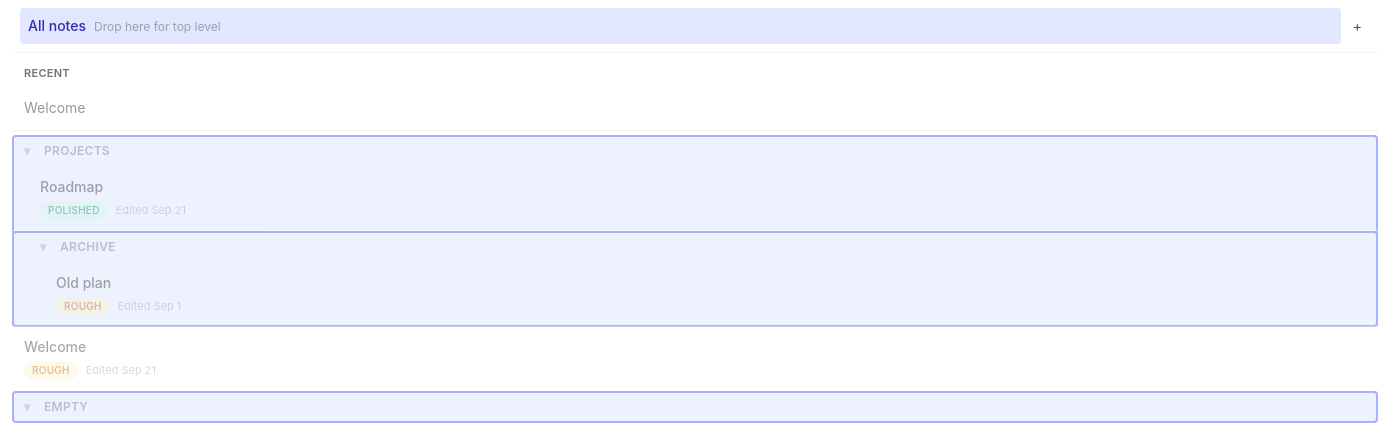
DocumentSidebar › closes a context menu on an outside click
The width and height of the screenshot is (1390, 440).
Right-click the button "▾ Empty" at (66, 406), box top-left (12, 390), bottom-right (1378, 422)
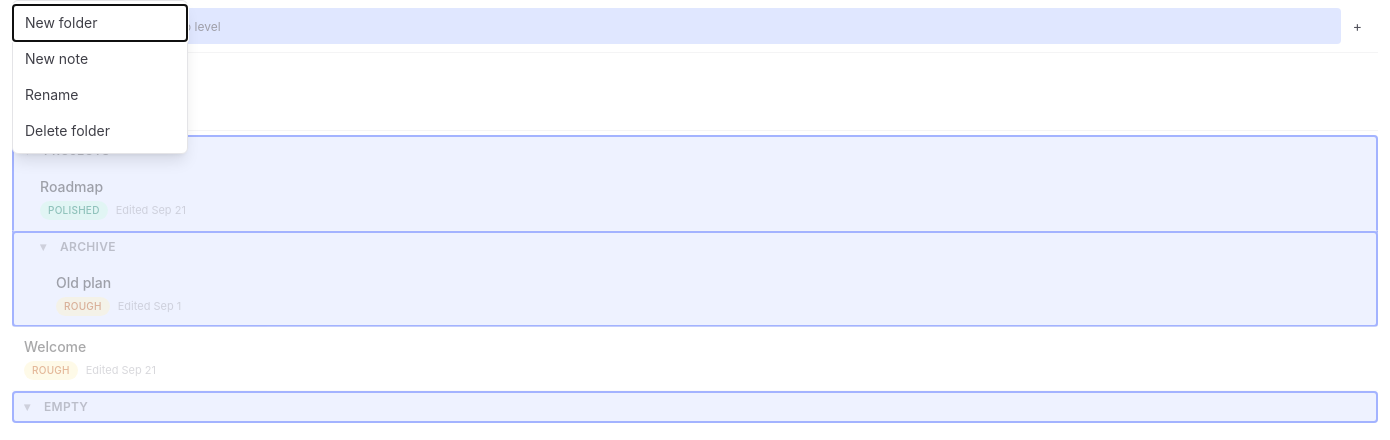
Expected: the menu is shown, top-left (12, 0), bottom-right (188, 154)
Press the mouse on the list item that starts with "Projects" at (695, 230), box top-left (12, 134), bottom-right (1378, 326)
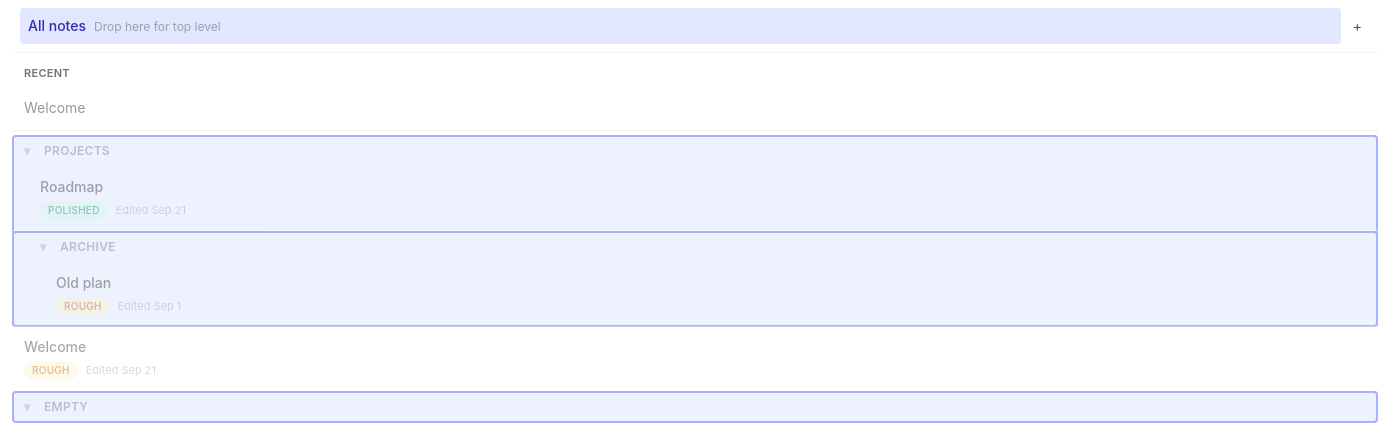
Expected: the menu is gone
